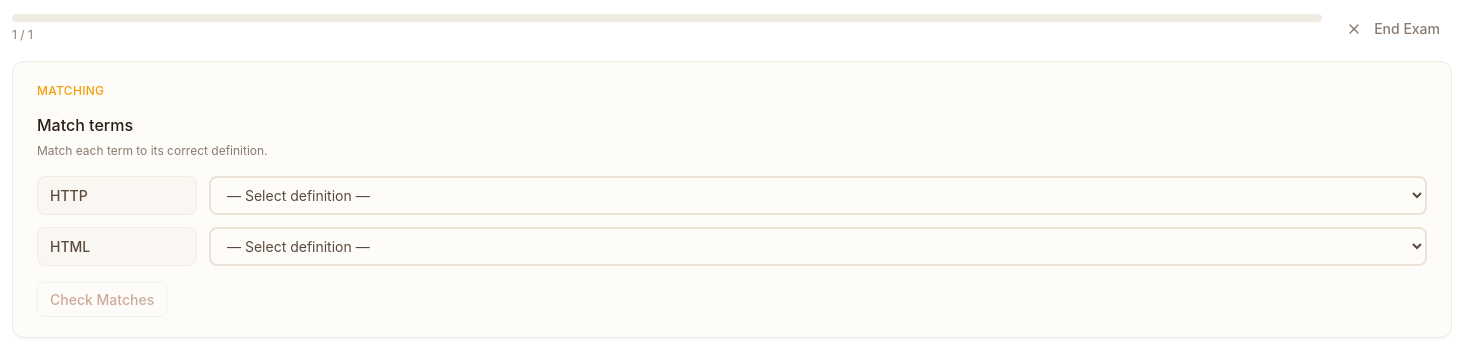
Test: KnowledgeExamSession › renders Matching question card and allows submitting matches
Note: Select correct definitions (indices 0 and 1 in order)
Select "Protocol" in the dropdown next to "HTTP" at (818, 196), box x1=209 y1=176 x2=1427 y2=215
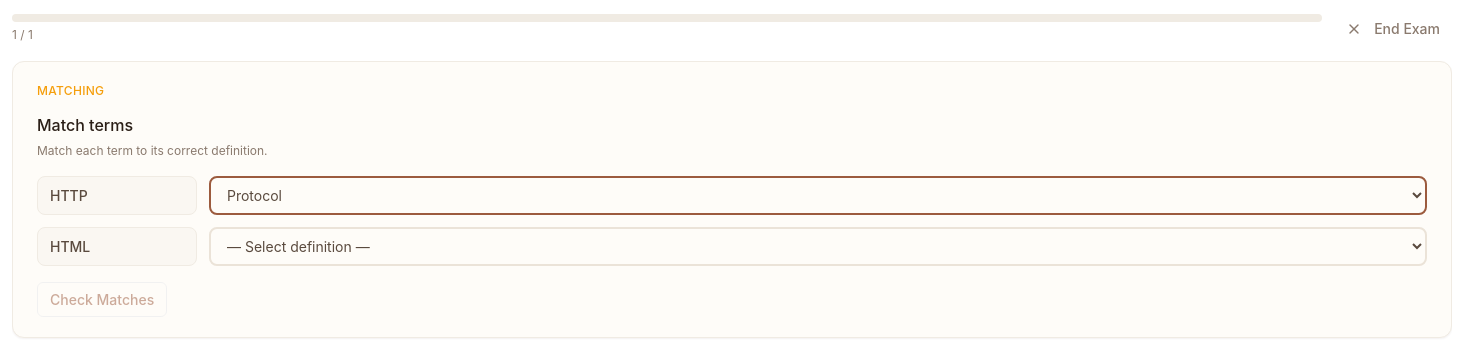
Select "Markup" in the dropdown next to "HTML" at (818, 246), box x1=209 y1=227 x2=1427 y2=266
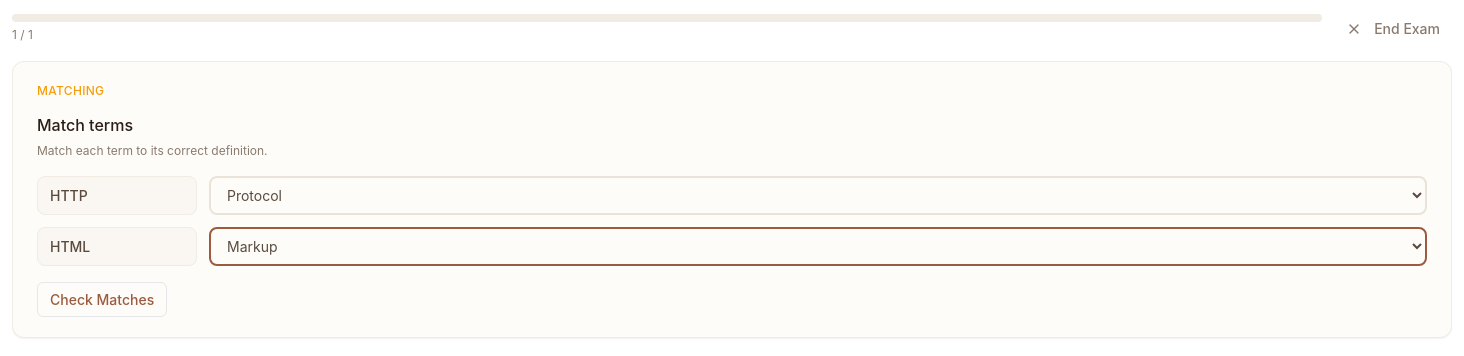
Click the button "Check Matches" at (102, 300), box x1=37 y1=282 x2=167 y2=317
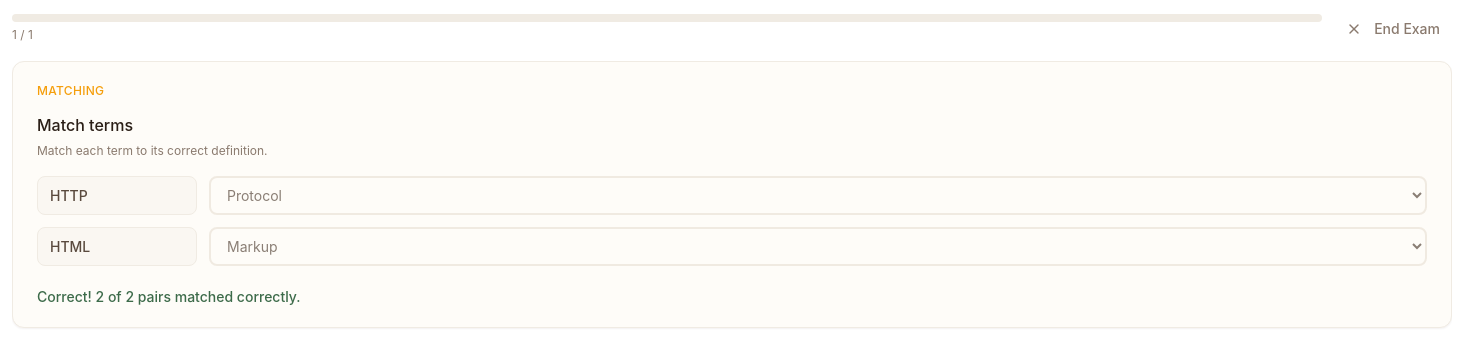
Result: the text "Correct! 2 of 2 pairs matched correctly." is shown at x1=37 y1=288 x2=301 y2=305
